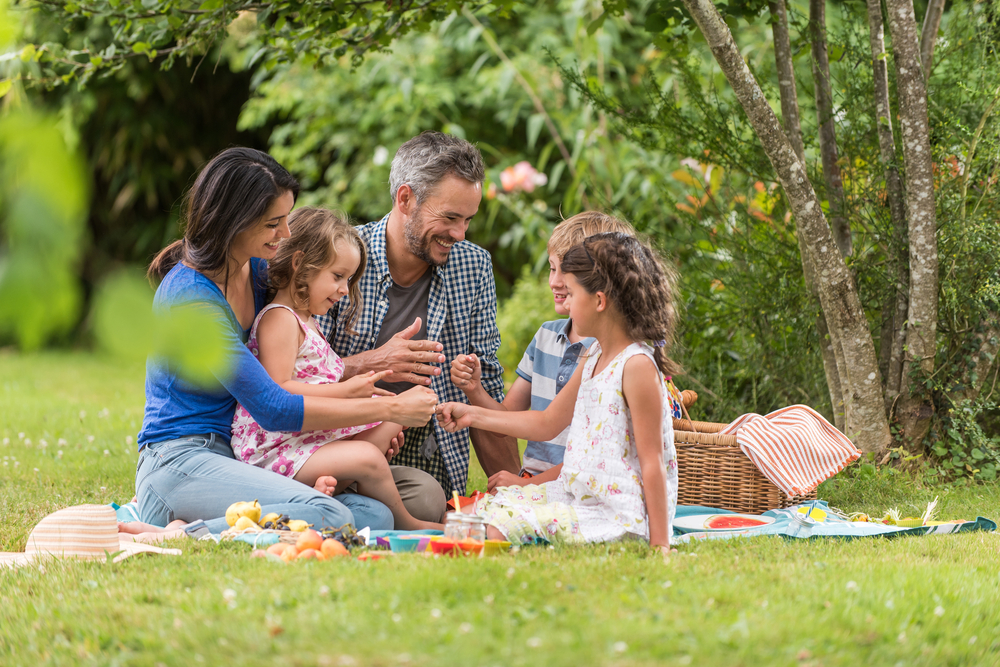Person: (550, 253, 690, 553), (175, 148, 285, 508), (390, 153, 500, 508), (280, 233, 385, 478)
